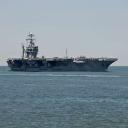Portanaves: (7, 31, 120, 74)
